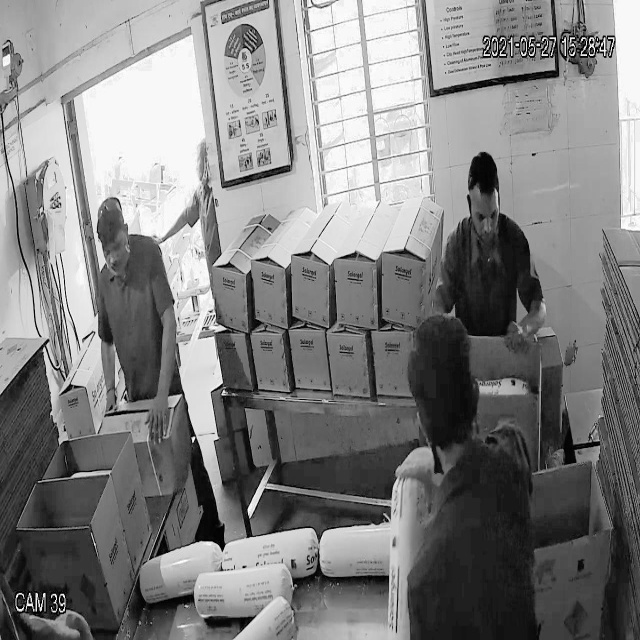Sin_gafas: (464, 190, 507, 235), (94, 231, 135, 265)
